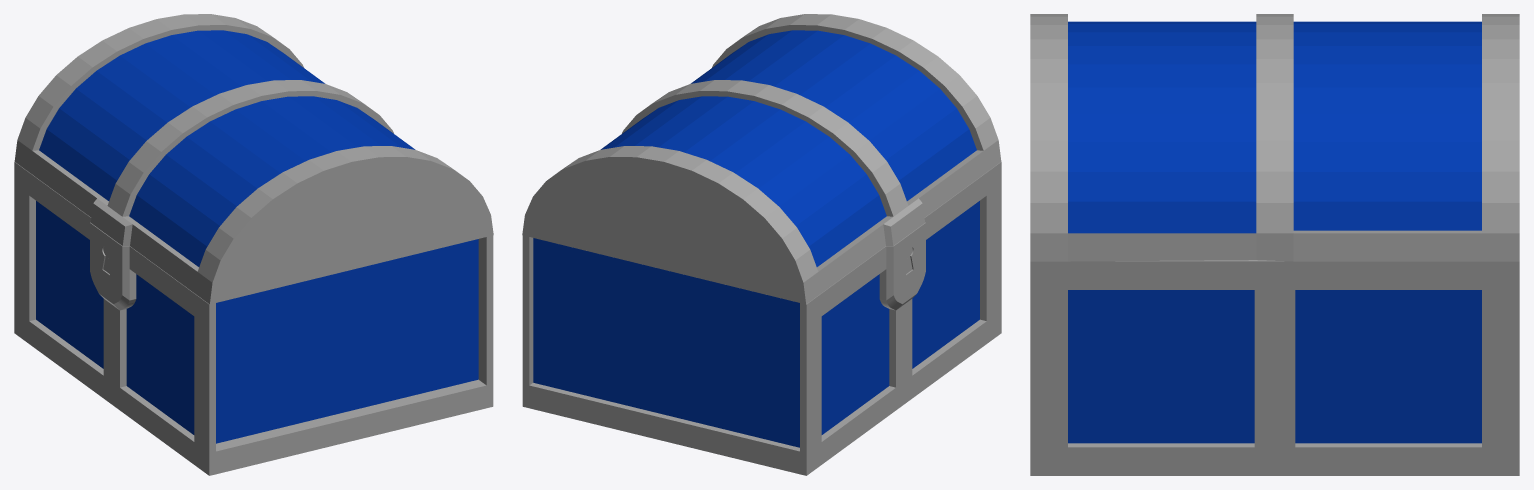
Rendered from BlueChest.fbx.
3 views of the same model, side by side, from view 1: azimuth 30°, elevation 25°; view 2: azimuth 150°, elevation 25°; view 3: azimuth 270°, elevation 25° (orthographic). The views are drawn at different scales.
Visible parts, largest first — view 1: Blue Chest; view 2: Blue Chest; view 3: Blue Chest.
Part boxes in pixels (left/top/right/bottom): Blue Chest: left=14, top=14, right=493, bottom=475; Blue Chest: left=522, top=14, right=1001, bottom=475; Blue Chest: left=1030, top=14, right=1519, bottom=475.
Bounding box in the file's own units: 257 × 237 × 300.
